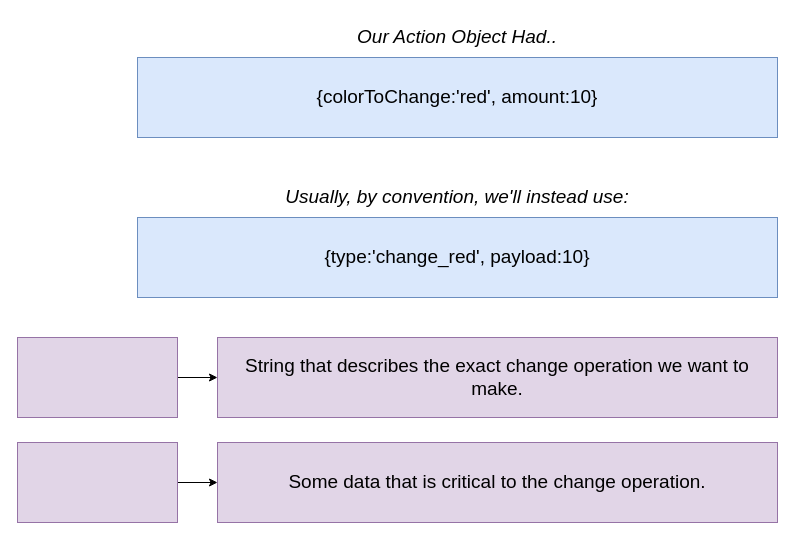
Image size: 795x540. Some labels were removed from this diagram. The shapes that lost their labels are listed below. From the top down, each one's centre as x and y in pixels, then its label:
the point at 97,377: type
the point at 97,482: payload
